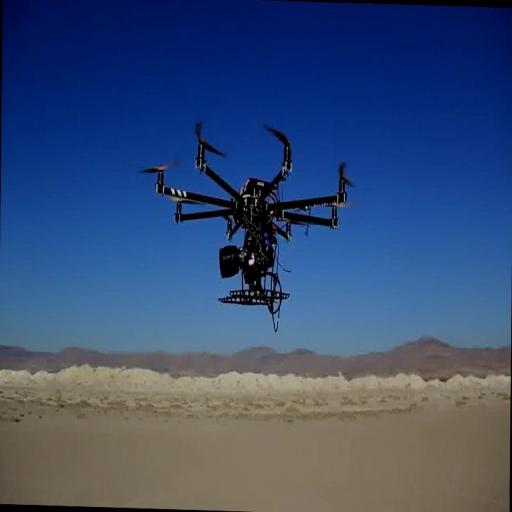drone: (140, 121, 358, 305)
